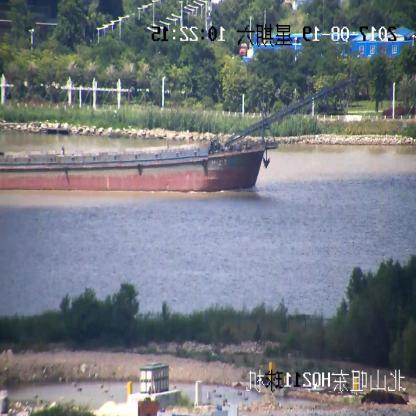Bulk Carrier: (0, 84, 347, 192)
